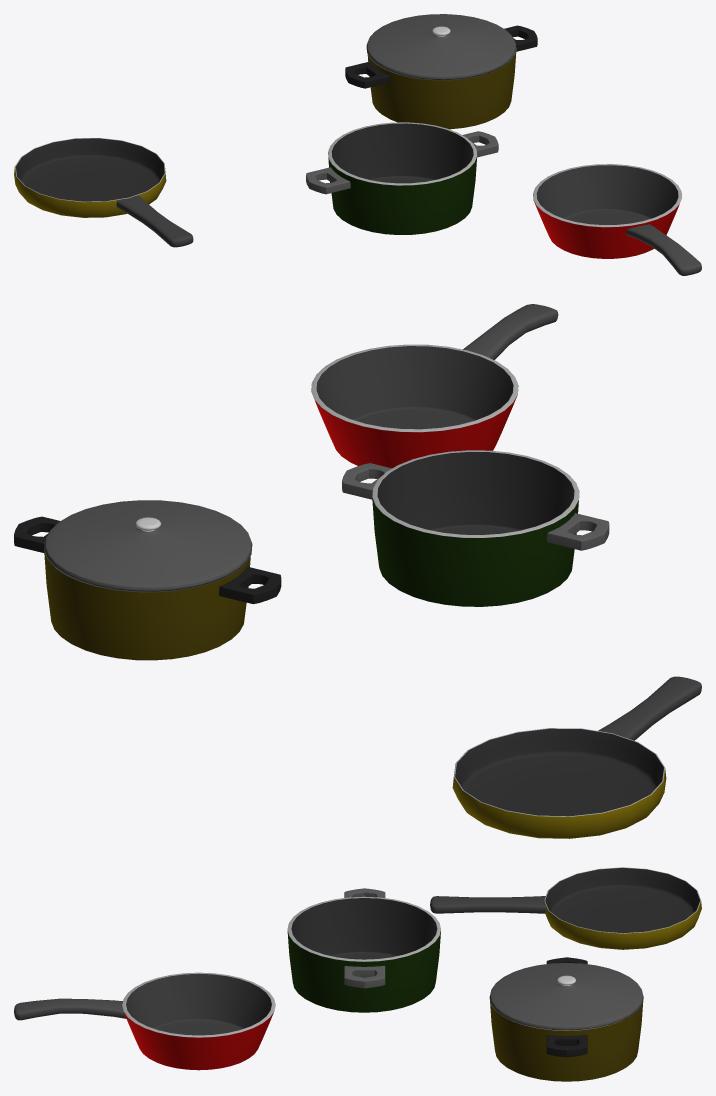
File: pans dual mat.fbx
3 renders of one model, top to bottom at view 1: azimuth 30°, elevation 25°; view 2: azimuth 150°, elevation 25°; view 3: azimuth 270°, elevation 25°, orthographic. The views are drawn at different scales.
Parts seen in each view (by area): view 1: polySurface47, polySurface43, polySurface49, polySurface53, polySurface52, polySurface48, polySurface44, polySurface50, polySurface45, polySurface46, polySurface51; view 2: polySurface47, polySurface43, polySurface49, polySurface53, polySurface52, polySurface48, polySurface44, polySurface45, polySurface50, polySurface46, polySurface51; view 3: polySurface47, polySurface43, polySurface49, polySurface53, polySurface52, polySurface48, polySurface44, polySurface51, polySurface46.
Boxes of the visible parts, bbox=[...] form: polySurface47: bbox=[328, 122, 477, 234]; polySurface43: bbox=[533, 164, 681, 258]; polySurface49: bbox=[14, 138, 166, 217]; polySurface53: bbox=[366, 14, 515, 80]; polySurface52: bbox=[367, 44, 516, 129]; polySurface48: bbox=[116, 195, 193, 247]; polySurface44: bbox=[626, 224, 701, 275]; polySurface50: bbox=[345, 61, 389, 88]; polySurface45: bbox=[306, 167, 350, 194]; polySurface46: bbox=[462, 131, 498, 157]; polySurface51: bbox=[504, 25, 537, 51]; polySurface47: bbox=[372, 450, 579, 606]; polySurface43: bbox=[311, 344, 518, 468]; polySurface49: bbox=[452, 728, 666, 838]; polySurface53: bbox=[44, 500, 252, 592]; polySurface52: bbox=[44, 542, 250, 660]; polySurface48: bbox=[598, 676, 701, 740]; polySurface44: bbox=[463, 304, 558, 360]; polySurface45: bbox=[547, 513, 609, 550]; polySurface50: bbox=[219, 566, 281, 604]; polySurface46: bbox=[342, 463, 391, 499]; polySurface51: bbox=[14, 516, 60, 552]; polySurface47: bbox=[287, 896, 440, 1012]; polySurface43: bbox=[122, 972, 275, 1070]; polySurface49: bbox=[544, 867, 701, 949]; polySurface53: bbox=[489, 963, 643, 1030]; polySurface52: bbox=[490, 1001, 643, 1081]; polySurface48: bbox=[430, 896, 545, 913]; polySurface44: bbox=[14, 998, 126, 1020]; polySurface51: bbox=[546, 1034, 587, 1057]; polySurface46: bbox=[344, 965, 385, 988].
Size of the model in its own units: 7.83 by 1.58 by 9.39.
